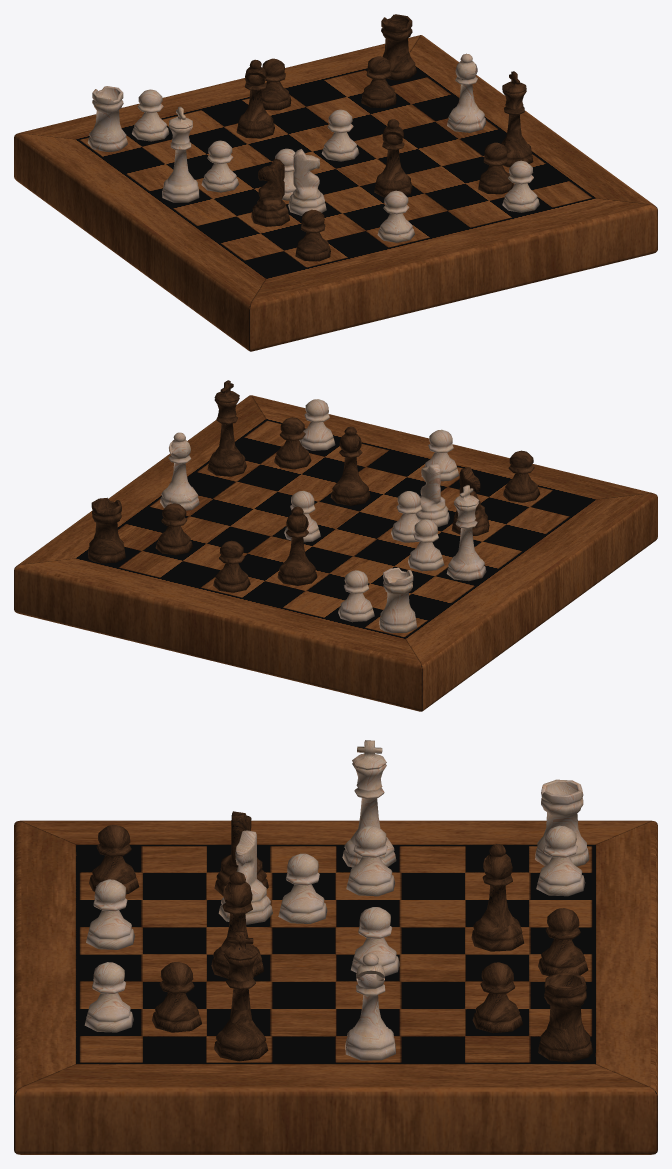
The model's file is WoodenChessSet5.glb.
The picture shows the model from 3 angles, top to bottom: view 1: azimuth 30°, elevation 25°; view 2: azimuth 150°, elevation 25°; view 3: azimuth 270°, elevation 25°; orthographic projection. The views are drawn at different scales.
Parts seen in each view (by area): view 1: WhitePawn.001; view 2: WhitePawn.001; view 3: WhitePawn.001.
Part boxes in pixels (x1,y1,x2,y2): WhitePawn.001: (14,14,657,351); WhitePawn.001: (14,380,657,711); WhitePawn.001: (14,740,657,1154).
Bounding box in the file's own units: 0.35 × 0.1108 × 0.35.
Materials: 3 (3 with a texture image).
